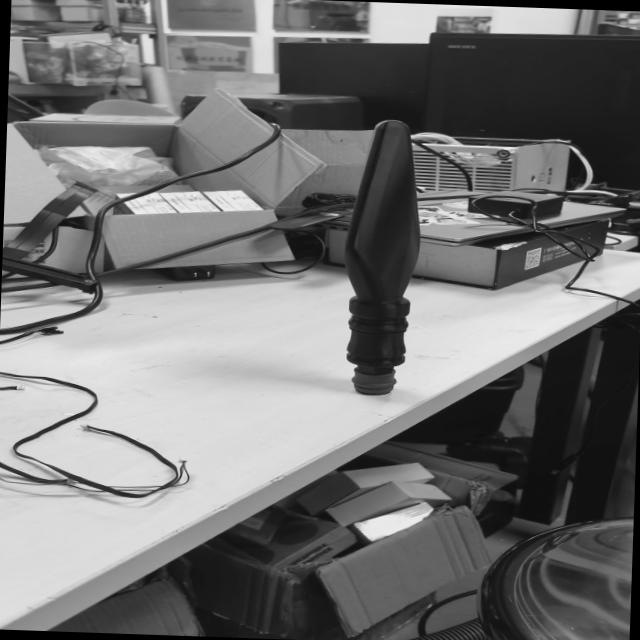base: (348, 367, 398, 398)
